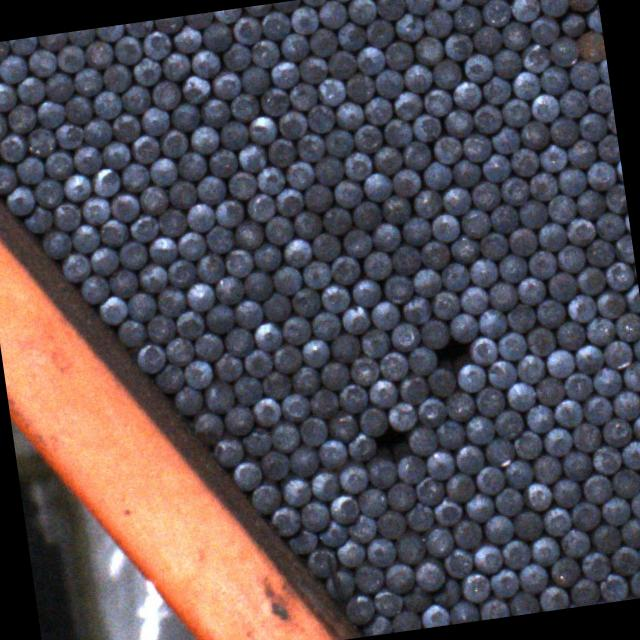tool: (392, 528, 426, 564), (342, 592, 376, 626), (364, 454, 398, 488), (304, 546, 338, 580), (287, 443, 320, 478), (444, 470, 478, 503), (566, 57, 600, 90), (325, 409, 358, 443), (203, 378, 235, 413), (269, 419, 301, 454), (328, 493, 361, 526), (223, 404, 256, 437), (324, 568, 357, 601), (415, 396, 447, 430), (193, 412, 225, 446), (424, 524, 456, 558), (585, 158, 617, 192), (517, 560, 549, 594), (352, 562, 386, 594), (548, 36, 580, 70), (474, 384, 506, 418), (384, 562, 416, 596), (414, 558, 446, 592), (501, 538, 533, 572), (298, 500, 330, 534), (548, 554, 580, 588), (462, 492, 496, 524), (446, 312, 478, 345), (419, 239, 452, 271), (368, 378, 400, 411), (339, 226, 372, 258), (346, 512, 379, 544), (338, 462, 370, 495), (560, 448, 592, 481), (492, 409, 524, 442), (584, 235, 616, 268), (530, 453, 562, 486), (212, 437, 245, 469), (468, 180, 501, 212), (573, 189, 605, 222), (482, 514, 515, 546), (365, 534, 398, 566), (424, 446, 456, 479), (444, 389, 476, 422), (4, 185, 36, 218), (390, 244, 423, 276), (472, 543, 504, 576), (298, 414, 329, 448), (243, 270, 274, 304), (566, 292, 598, 324), (600, 417, 632, 449), (270, 504, 302, 536), (540, 426, 572, 458), (222, 326, 254, 358), (557, 528, 589, 560), (489, 46, 521, 78), (450, 80, 482, 112), (190, 124, 222, 156), (570, 422, 602, 454), (390, 322, 422, 354), (580, 474, 612, 506), (356, 486, 388, 518), (452, 3, 484, 35), (472, 464, 504, 496), (233, 220, 265, 252), (557, 88, 589, 120), (604, 261, 636, 293), (570, 500, 602, 532), (582, 394, 614, 426), (574, 265, 606, 297), (554, 320, 586, 352), (492, 486, 524, 518), (535, 298, 567, 330), (375, 508, 407, 540), (471, 25, 503, 57), (496, 251, 528, 283), (120, 84, 152, 116), (270, 342, 302, 374), (336, 382, 368, 414), (288, 364, 320, 396), (392, 88, 424, 120), (414, 476, 446, 508), (412, 36, 444, 68), (564, 136, 596, 168), (536, 140, 568, 172), (518, 120, 550, 152), (549, 476, 581, 508), (593, 211, 625, 243), (460, 132, 492, 164), (530, 535, 562, 567), (386, 400, 418, 432), (522, 482, 554, 514), (580, 549, 612, 581), (356, 406, 388, 438), (532, 376, 564, 408), (316, 438, 348, 470), (528, 15, 560, 47), (498, 97, 530, 129), (454, 442, 486, 474), (455, 361, 487, 393), (504, 380, 536, 412), (459, 572, 491, 604), (276, 109, 308, 141), (546, 270, 578, 302), (408, 426, 440, 458), (386, 482, 418, 514), (488, 567, 520, 599), (588, 522, 620, 554), (402, 504, 434, 536), (280, 476, 312, 508), (484, 437, 516, 469), (398, 373, 430, 405), (452, 518, 484, 550), (464, 414, 496, 446), (472, 102, 504, 134), (512, 508, 544, 540), (394, 454, 426, 486), (442, 546, 474, 578), (501, 19, 532, 52), (377, 348, 408, 381), (309, 308, 340, 341), (194, 173, 225, 206), (602, 338, 633, 371), (381, 192, 412, 225), (419, 318, 450, 351), (549, 115, 580, 148), (347, 429, 378, 462), (309, 386, 340, 419), (308, 470, 339, 503), (71, 144, 102, 176), (313, 156, 344, 188), (290, 286, 321, 318), (591, 366, 622, 398), (199, 98, 230, 130), (232, 459, 264, 490), (32, 176, 63, 208), (284, 161, 316, 192), (270, 266, 301, 298), (316, 76, 347, 108), (44, 71, 75, 103), (574, 344, 605, 376), (134, 342, 165, 374), (279, 314, 310, 346), (356, 45, 387, 77), (88, 244, 119, 276), (518, 198, 549, 230), (96, 295, 127, 327), (70, 224, 102, 255), (176, 150, 207, 182), (371, 300, 402, 332), (254, 165, 286, 196), (180, 74, 212, 105), (528, 93, 559, 125), (399, 217, 431, 248), (597, 572, 628, 604), (351, 198, 382, 230), (609, 544, 640, 576), (384, 41, 416, 72), (250, 241, 282, 272), (322, 128, 353, 160), (250, 484, 281, 516), (202, 304, 234, 335), (430, 134, 462, 165), (411, 266, 442, 298), (168, 102, 200, 133), (91, 88, 122, 120), (193, 252, 224, 284), (370, 146, 401, 178), (391, 166, 422, 198), (238, 64, 270, 95), (331, 178, 362, 210), (564, 216, 595, 248), (497, 330, 528, 362), (556, 165, 588, 196), (524, 326, 555, 358), (321, 204, 352, 236), (150, 80, 181, 112), (600, 496, 631, 528), (545, 193, 576, 225), (584, 316, 616, 347), (109, 192, 140, 224), (112, 33, 144, 64), (381, 116, 412, 148), (90, 166, 121, 198), (421, 6, 452, 38), (481, 153, 512, 185), (477, 308, 508, 340), (41, 228, 72, 260), (438, 260, 469, 292), (461, 208, 492, 240), (172, 22, 204, 53), (489, 204, 520, 236), (155, 286, 186, 318), (411, 188, 442, 220), (232, 373, 263, 405), (24, 126, 56, 157), (431, 289, 462, 321), (100, 140, 131, 172), (430, 57, 461, 89), (334, 20, 366, 51), (498, 174, 529, 206), (328, 333, 360, 364), (507, 226, 538, 258), (527, 248, 558, 280), (486, 356, 517, 388), (536, 220, 567, 252), (487, 282, 518, 314), (527, 169, 558, 201), (567, 577, 599, 608), (480, 74, 512, 105), (432, 576, 464, 607), (552, 398, 582, 431), (440, 183, 470, 216), (436, 418, 466, 451), (576, 31, 606, 64), (164, 336, 195, 367), (363, 96, 394, 127), (232, 299, 263, 330), (190, 49, 221, 80), (304, 181, 335, 212), (84, 38, 115, 69), (258, 88, 289, 119), (79, 274, 110, 305), (426, 367, 457, 398), (562, 371, 593, 402), (300, 260, 331, 291), (73, 66, 104, 97), (342, 152, 373, 183), (229, 93, 260, 124), (513, 430, 544, 461), (431, 213, 462, 244), (120, 163, 151, 194), (294, 133, 325, 164), (318, 361, 349, 392), (306, 27, 337, 58), (459, 285, 490, 316), (325, 50, 356, 81), (110, 113, 141, 144), (203, 20, 234, 51), (173, 308, 204, 339), (515, 275, 546, 306), (402, 62, 433, 93), (80, 196, 111, 227), (594, 289, 625, 320), (100, 62, 131, 93), (373, 588, 404, 619), (421, 86, 452, 117), (477, 231, 508, 262), (591, 443, 622, 474), (451, 158, 482, 189), (80, 117, 111, 148), (334, 539, 365, 570), (432, 497, 463, 528), (142, 29, 172, 61), (312, 230, 342, 262), (62, 250, 92, 282), (185, 200, 215, 232), (126, 292, 156, 324), (44, 148, 74, 180), (250, 396, 280, 428), (282, 237, 312, 269), (192, 332, 224, 362), (320, 282, 350, 314), (292, 208, 322, 240), (154, 364, 186, 394), (230, 16, 262, 46), (250, 36, 280, 68), (520, 42, 550, 74), (128, 212, 160, 242), (401, 140, 433, 170), (510, 70, 542, 100), (412, 112, 442, 144), (330, 255, 360, 287), (610, 390, 640, 422), (5, 102, 35, 134), (130, 132, 160, 164), (374, 68, 404, 100), (504, 459, 534, 491), (260, 10, 290, 42), (444, 106, 474, 138), (408, 344, 438, 376), (138, 262, 168, 294), (247, 114, 277, 146), (370, 220, 400, 252), (610, 468, 640, 500), (344, 72, 374, 104), (238, 142, 268, 174), (260, 450, 290, 482), (394, 12, 426, 42), (464, 53, 494, 85), (358, 327, 388, 359), (316, 518, 348, 548), (490, 124, 520, 156), (542, 506, 572, 538), (402, 582, 434, 612), (160, 52, 190, 83), (220, 119, 250, 150), (364, 18, 394, 49), (274, 185, 304, 216), (305, 104, 335, 135), (213, 198, 244, 228), (138, 185, 168, 216), (262, 216, 292, 247), (253, 322, 283, 353), (108, 267, 138, 298), (213, 276, 244, 306), (140, 107, 170, 138), (176, 230, 207, 260), (360, 172, 391, 202), (148, 156, 178, 187), (144, 312, 174, 343), (117, 240, 148, 270), (266, 137, 296, 168), (298, 54, 328, 85), (62, 93, 92, 124), (166, 180, 197, 210), (350, 277, 380, 308), (278, 30, 308, 61), (228, 170, 258, 201), (155, 208, 186, 238), (208, 147, 238, 178), (164, 258, 195, 288), (348, 356, 378, 387), (442, 30, 472, 61), (260, 368, 290, 399), (516, 353, 546, 384), (184, 282, 215, 312), (352, 124, 383, 154), (279, 392, 310, 422), (173, 386, 204, 416), (384, 274, 415, 304), (545, 348, 576, 378), (468, 256, 498, 287), (578, 110, 608, 141), (241, 348, 272, 378), (538, 65, 568, 96), (212, 70, 242, 101), (524, 404, 554, 435), (23, 204, 54, 234), (506, 302, 536, 333), (241, 426, 272, 456), (223, 248, 253, 278), (182, 360, 212, 390), (147, 235, 177, 265), (334, 100, 364, 130), (222, 41, 252, 71), (15, 74, 45, 104), (117, 318, 147, 348), (54, 42, 84, 72), (15, 154, 45, 184), (245, 191, 275, 221), (35, 100, 65, 130), (269, 60, 299, 90), (131, 56, 161, 86), (52, 202, 82, 232), (300, 338, 330, 368), (508, 148, 538, 178), (96, 217, 126, 247), (159, 127, 189, 157), (289, 6, 319, 36), (362, 250, 392, 280), (62, 172, 92, 202), (468, 336, 498, 366), (554, 242, 584, 272), (288, 82, 318, 112), (262, 292, 292, 322), (420, 162, 450, 192), (402, 294, 432, 324), (448, 234, 478, 264), (212, 352, 242, 382), (288, 526, 319, 555), (586, 82, 614, 114), (538, 584, 570, 612), (203, 224, 232, 254), (340, 304, 369, 334), (27, 46, 56, 76), (317, 0, 347, 29), (479, 0, 510, 28), (0, 53, 28, 84), (56, 122, 84, 152), (508, 590, 540, 616), (595, 132, 621, 163), (0, 133, 26, 164), (420, 603, 451, 629), (346, 0, 378, 25), (603, 183, 628, 215), (560, 11, 588, 39), (450, 598, 480, 624), (615, 312, 640, 343), (362, 613, 394, 637), (478, 596, 510, 620), (508, 0, 540, 23), (390, 609, 420, 633), (618, 516, 640, 548), (618, 439, 640, 470), (613, 232, 635, 263), (376, 0, 406, 21), (38, 32, 68, 52), (537, 0, 568, 19), (622, 360, 640, 392), (0, 164, 18, 196), (0, 80, 17, 111), (155, 16, 184, 34), (94, 24, 123, 42), (623, 282, 640, 312), (584, 4, 602, 32), (124, 20, 152, 38), (10, 37, 38, 55), (403, 0, 434, 16), (185, 12, 214, 29), (68, 29, 96, 46), (214, 8, 243, 24), (242, 4, 272, 18), (596, 56, 610, 86), (566, 0, 598, 13), (604, 108, 618, 137), (627, 568, 640, 599), (628, 488, 640, 520), (271, 0, 300, 13), (432, 0, 463, 12), (613, 158, 624, 185), (631, 410, 640, 442), (0, 110, 8, 143), (622, 208, 631, 236), (632, 335, 640, 364), (0, 40, 10, 62), (301, 0, 328, 7), (330, 0, 357, 3)
void: (433, 338, 474, 371), (372, 430, 411, 464)
